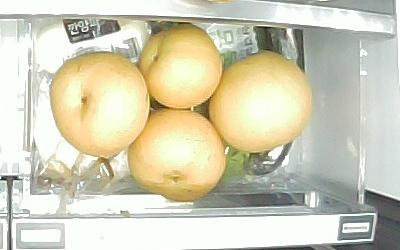pear: (209, 50, 313, 154), (50, 51, 149, 157), (128, 109, 226, 202), (136, 24, 222, 111)
